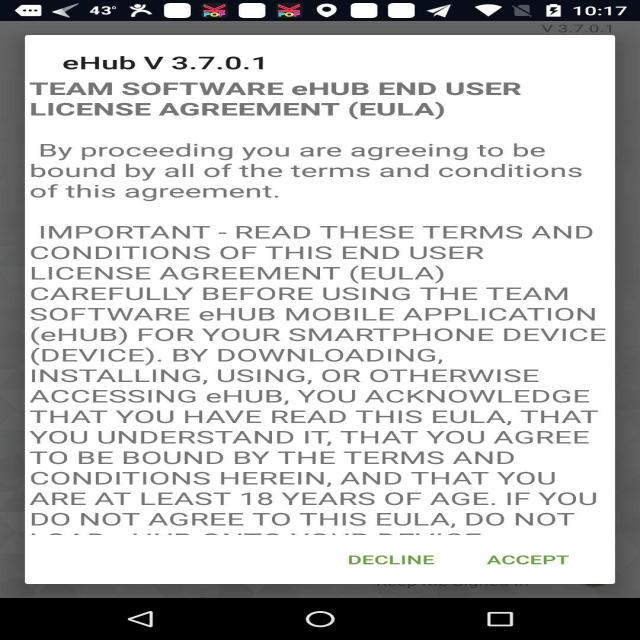button: (323, 551, 453, 573), (477, 550, 574, 576)
image: (24, 32, 618, 585)
text: (26, 217, 614, 540), (24, 142, 600, 203), (26, 76, 564, 126), (52, 49, 299, 77), (333, 544, 455, 575), (482, 552, 578, 571)
